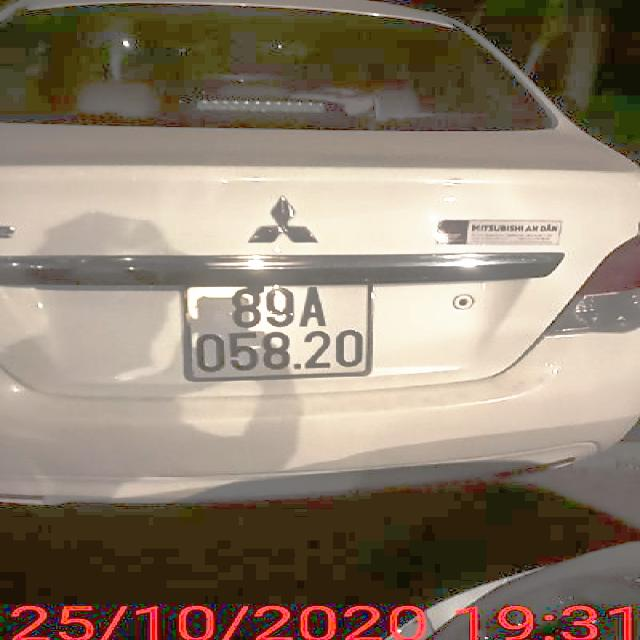license_plate: (188, 284, 375, 380)
